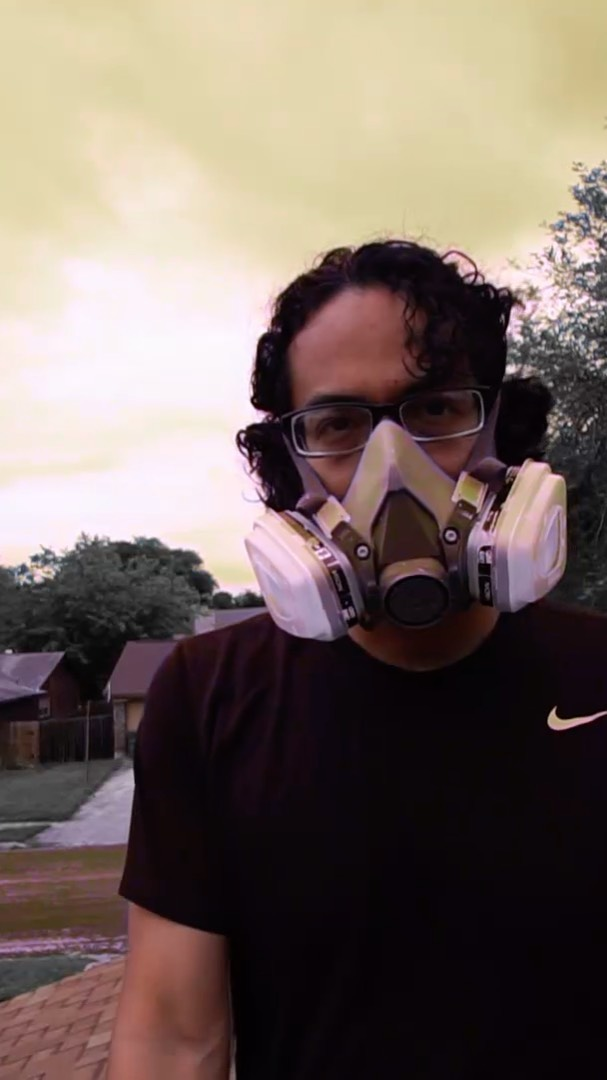homemade: (230, 422, 581, 648)
